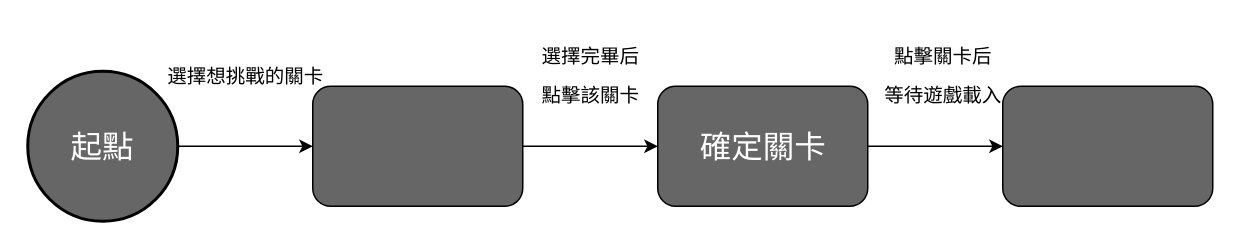
The diagram is 1239 pixels wide and 248 high, and some of its shapes have lost their labels. Here are the shapes that lost their labels. From the top down, the centre of each, then its label:
At [417,145]: "選擇關卡".
At [1107,145]: "進入遊戲".
